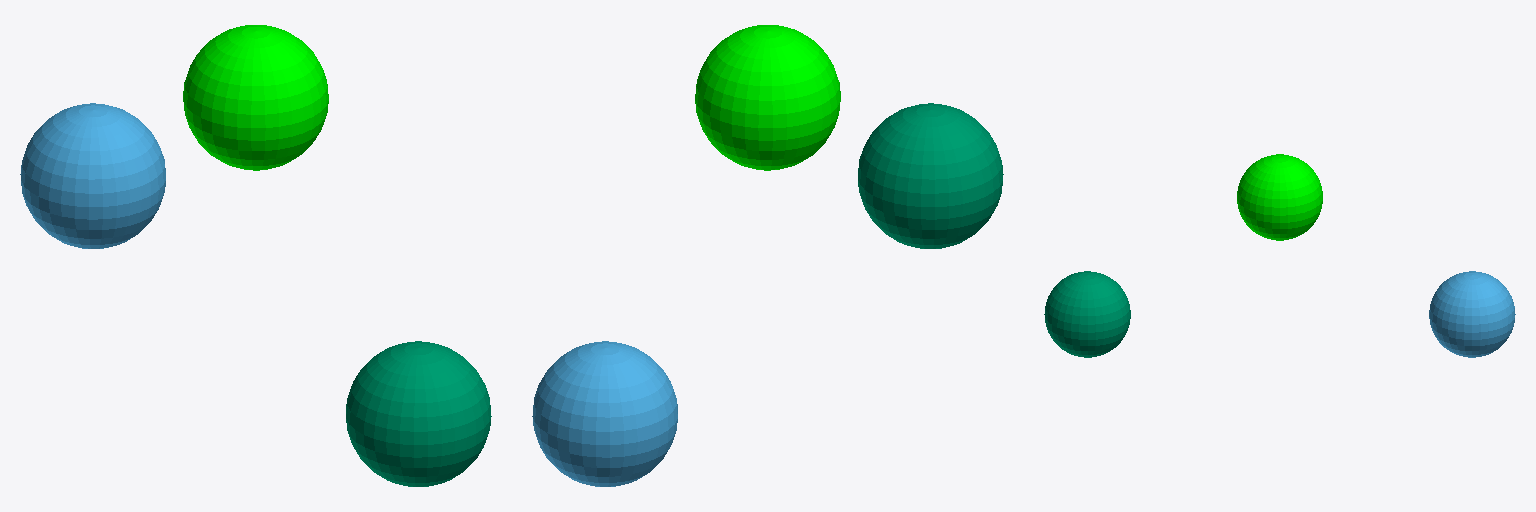
The robot description file, URDF, robot "xarm_gripper":
<?xml version="1.0" ?>
<!--  XArm Gripper -->
<!-- =============================================================================================================== -->
<!-- | This document was autogenerated by xacro from -->
<!--   https://github.com/xArm-Developer/xarm_ros2/blob/humble/xarm_moveit_config/launch/xarm7_moveit_fake.launch.py -->
<!--   ros2 launch xarm_moveit_config xarm7_moveit_fake.launch.py add_gripper:=true -->
<!-- | EDITING THIS FILE BY HAND IS NOT RECOMMENDED | -->
<!-- =============================================================================================================== -->
<robot name="xarm_gripper">
  <link name="link_eef"/>
  <joint name="gripper_fix" type="fixed">
    <parent link="link_eef"/>
    <child link="xarm_gripper_base_link"/>
    <origin rpy="0 0 0" xyz="0 0 0"/>
  </joint>
  <link name="xarm_gripper_base_link">
    <inertial>
      <origin rpy="0 0 0" xyz="-0.00065489 -0.0018497 0.048028"/>
      <mass value="0.54156"/>
      <inertia ixx="0.00047106" ixy="3.9292E-07" ixz="2.6537E-06" iyy="0.00033072" iyz="-1.0975E-05" izz="0.00025642"/>
    </inertial>
    <visual>
      <geometry>
        <mesh filename="meshes/xarm_gripper/base_link.STL"/>
      </geometry>
      <origin rpy="0 0 0" xyz="0 0 0"/>
      <material name="White"/>
    </visual>
    <collision>
      <geometry>
        <mesh filename="meshes/xarm_gripper/base_link.STL"/>
      </geometry>
      <origin rpy="0 0 0" xyz="0 0 0"/>
    </collision>
  </link>
  <link name="left_outer_knuckle">
    <inertial>
      <origin rpy="0 0 0" xyz="2.9948E-14 0.021559 0.015181"/>
      <mass value="0.033618"/>
      <inertia ixx="1.9111E-05" ixy="-1.8803E-17" ixz="-1.1002E-17" iyy="6.6256E-06" iyz="-7.3008E-06" izz="1.3185E-05"/>
    </inertial>
    <visual>
      <geometry>
        <mesh filename="meshes/xarm_gripper/left_outer_knuckle.STL"/>
      </geometry>
      <origin rpy="0 0 0" xyz="0 0 0"/>
      <material name="Silver"/>
    </visual>
    <collision>
      <geometry>
        <mesh filename="meshes/xarm_gripper/left_outer_knuckle.STL"/>
      </geometry>
      <origin rpy="0 0 0" xyz="0 0 0"/>
    </collision>
  </link>
  <joint name="drive_joint" type="revolute">
    <origin rpy="0 0 0" xyz="0 0.035 0.059098"/>
    <parent link="xarm_gripper_base_link"/>
    <child link="left_outer_knuckle"/>
    <axis xyz="1 0 0"/>
    <limit effort="50" lower="0" upper="0.85" velocity="2"/>
  </joint>
  <link name="left_finger">
    <inertial>
      <origin rpy="0 0 0" xyz="-2.4536E-14 -0.016413 0.029258"/>
      <mass value="0.048304"/>
      <inertia ixx="1.7493E-05" ixy="-4.2156E-19" ixz="6.9164E-18" iyy="1.7225E-05" iyz="4.6433E-06" izz="5.1466E-06"/>
    </inertial>
    <visual>
      <geometry>
        <mesh filename="meshes/xarm_gripper/left_finger.STL"/>
      </geometry>
      <origin rpy="0 0 0" xyz="0 0 0"/>
      <material name="Silver"/>
    </visual>
    <collision>
      <geometry>
        <mesh filename="meshes/xarm_gripper/left_finger.STL"/>
      </geometry>
      <origin rpy="0 0 0" xyz="0 0 0"/>
    </collision>
  </link>
  <joint name="left_finger_joint" type="revolute">
    <origin rpy="0 0 0" xyz="0 0.035465 0.042039"/>
    <parent link="left_outer_knuckle"/>
    <child link="left_finger"/>
    <axis xyz="-1 0 0"/>
    <limit effort="50" lower="0" upper="0.85" velocity="2"/>
    <mimic joint="drive_joint" multiplier="1" offset="0"/>
  </joint>
  <link name="left_inner_knuckle">
    <inertial>
      <origin rpy="0 0 0" xyz="1.86600784687907E-06 0.0220467847633621 0.0261334672830885"/>
      <mass value="0.0230125781256706"/>
      <inertia ixx="6.09490024271906E-06" ixy="6.06651326160071E-11" ixz="7.19102670500635E-11" iyy="6.01955084375188E-06" iyz="-2.75316812991721E-06" izz="5.07862004479903E-06"/>
    </inertial>
    <visual>
      <geometry>
        <mesh filename="meshes/xarm_gripper/left_inner_knuckle.STL"/>
      </geometry>
      <origin rpy="0 0 0" xyz="0 0 0"/>
      <material name="Silver"/>
    </visual>
    <collision>
      <geometry>
        <mesh filename="meshes/xarm_gripper/left_inner_knuckle.STL"/>
      </geometry>
      <origin rpy="0 0 0" xyz="0 0 0"/>
    </collision>
  </link>
  <joint name="left_inner_knuckle_joint" type="revolute">
    <origin rpy="0 0 0" xyz="0 0.02 0.074098"/>
    <parent link="xarm_gripper_base_link"/>
    <child link="left_inner_knuckle"/>
    <axis xyz="1 0 0"/>
    <limit effort="50" lower="0" upper="0.85" velocity="2"/>
    <mimic joint="drive_joint" multiplier="1" offset="0"/>
  </joint>
  <link name="right_outer_knuckle">
    <inertial>
      <origin rpy="0 0 0" xyz="-3.1669E-14 -0.021559 0.015181"/>
      <mass value="0.033618"/>
      <inertia ixx="1.9111E-05" ixy="-1.8789E-17" ixz="1.0986E-17" iyy="6.6256E-06" iyz="7.3008E-06" izz="1.3185E-05"/>
    </inertial>
    <visual>
      <geometry>
        <mesh filename="meshes/xarm_gripper/right_outer_knuckle.STL"/>
      </geometry>
      <origin rpy="0 0 0" xyz="0 0 0"/>
      <material name="Silver"/>
    </visual>
    <collision>
      <geometry>
        <mesh filename="meshes/xarm_gripper/right_outer_knuckle.STL"/>
      </geometry>
      <origin rpy="0 0 0" xyz="0 0 0"/>
    </collision>
  </link>
  <joint name="right_outer_knuckle_joint" type="revolute">
    <origin rpy="0 0 0" xyz="0 -0.035 0.059098"/>
    <parent link="xarm_gripper_base_link"/>
    <child link="right_outer_knuckle"/>
    <axis xyz="-1 0 0"/>
    <limit effort="50" lower="0" upper="0.85" velocity="2"/>
    <mimic joint="drive_joint" multiplier="1" offset="0"/>
  </joint>
  <link name="right_finger">
    <inertial>
      <origin rpy="0 0 0" xyz="2.5618E-14 0.016413 0.029258"/>
      <mass value="0.048304"/>
      <inertia ixx="1.7493E-05" ixy="-5.0014E-19" ixz="-7.5079E-18" iyy="1.7225E-05" iyz="-4.6435E-06" izz="5.1466E-06"/>
    </inertial>
    <visual>
      <geometry>
        <mesh filename="meshes/xarm_gripper/right_finger.STL"/>
      </geometry>
      <origin rpy="0 0 0" xyz="0 0 0"/>
      <material name="Silver"/>
    </visual>
    <collision>
      <geometry>
        <mesh filename="meshes/xarm_gripper/right_finger.STL"/>
      </geometry>
      <origin rpy="0 0 0" xyz="0 0 0"/>
    </collision>
  </link>
  <joint name="right_finger_joint" type="revolute">
    <origin rpy="0 0 0" xyz="0 -0.035465 0.042039"/>
    <parent link="right_outer_knuckle"/>
    <child link="right_finger"/>
    <axis xyz="1 0 0"/>
    <limit effort="50" lower="0" upper="0.85" velocity="2"/>
    <mimic joint="drive_joint" multiplier="1" offset="0"/>
  </joint>
  <link name="right_inner_knuckle">
    <inertial>
      <origin rpy="0 0 0" xyz="1.866E-06 -0.022047 0.026133"/>
      <mass value="0.023013"/>
      <inertia ixx="6.0949E-06" ixy="-6.0665E-11" ixz="7.191E-11" iyy="6.0197E-06" iyz="2.7531E-06" izz="5.0784E-06"/>
    </inertial>
    <visual>
      <geometry>
        <mesh filename="meshes/xarm_gripper/right_inner_knuckle.STL"/>
      </geometry>
      <origin rpy="0 0 0" xyz="0 0 0"/>
      <material name="Silver"/>
    </visual>
    <collision>
      <geometry>
        <mesh filename="meshes/xarm_gripper/right_inner_knuckle.STL"/>
      </geometry>
      <origin rpy="0 0 0" xyz="0 0 0"/>
    </collision>
  </link>
  <joint name="right_inner_knuckle_joint" type="revolute">
    <origin rpy="0 0 0" xyz="0 -0.02 0.074098"/>
    <parent link="xarm_gripper_base_link"/>
    <child link="right_inner_knuckle"/>
    <axis xyz="-1 0 0"/>
    <limit effort="50" lower="0" upper="0.85" velocity="2"/>
    <mimic joint="drive_joint" multiplier="1" offset="0"/>
  </joint>
  <link name="link_tcp">
    <visual>
      <geometry>
        <sphere radius="0.01"/>
      </geometry>
      <material name="Green">
        <color rgba="0 1 0 0.75"/>
      </material>
    </visual>
  </link>
  <joint name="joint_tcp" type="fixed">
    <origin rpy="0 0 0" xyz="0 0 0.172"/>
    <parent link="xarm_gripper_base_link"/>
    <child link="link_tcp"/>
  </joint>

  <link name="left_finger_tcp">
    <visual>
      <geometry>
        <sphere radius="0.01"/>
      </geometry>
      <material name="Red"/>
    </visual>
  </link>
  <joint name="left_finger_tcp_joint" type="fixed">
    <parent link="left_finger"/>
    <child link="left_finger_tcp"/>
    <origin rpy="0 0 0" xyz="0 -0.026003 0.041003"/>
  </joint>

  <link name="right_finger_tcp">
    <visual>
      <geometry>
        <sphere radius="0.01"/>
      </geometry>
      <material name="Red"/>
    </visual>
  </link>
  <joint name="right_finger_tcp_joint" type="fixed">
    <parent link="right_finger"/>
    <child link="right_finger_tcp"/>
    <origin rpy="0 0 0" xyz="0 0.026003 0.041003"/>
  </joint>

</robot>

--- Render facts (derived) ---
Views: 3 orthographic renders of the robot side by side, from view 1: azimuth 30°, elevation 25°; view 2: azimuth 150°, elevation 25°; view 3: azimuth 270°, elevation 25°.
Model xarm_gripper with 11 links and 10 joints (6 revolute, 4 fixed), rooted at link_eef, posed all joints at 0.
Links seen in each view (by area): view 1: link_tcp, left_finger_tcp, right_finger_tcp; view 2: link_tcp, left_finger_tcp, right_finger_tcp; view 3: left_finger_tcp, right_finger_tcp, link_tcp.
Boxes of the visible links, x1,y1,x2,y2 form: link_tcp: [183, 25, 328, 170]; left_finger_tcp: [20, 103, 165, 248]; right_finger_tcp: [346, 341, 491, 486]; link_tcp: [695, 25, 840, 170]; left_finger_tcp: [532, 341, 677, 486]; right_finger_tcp: [858, 103, 1003, 248]; left_finger_tcp: [1429, 271, 1515, 357]; right_finger_tcp: [1044, 271, 1130, 357]; link_tcp: [1237, 154, 1322, 240].
Size in the robot's own frame: 0.02 by 0.1089 by 0.0499 metres.
0 mesh visuals loaded from 7 distinct referenced files (none loaded); not drawn: 7 (reference not matched to a file when rendering).